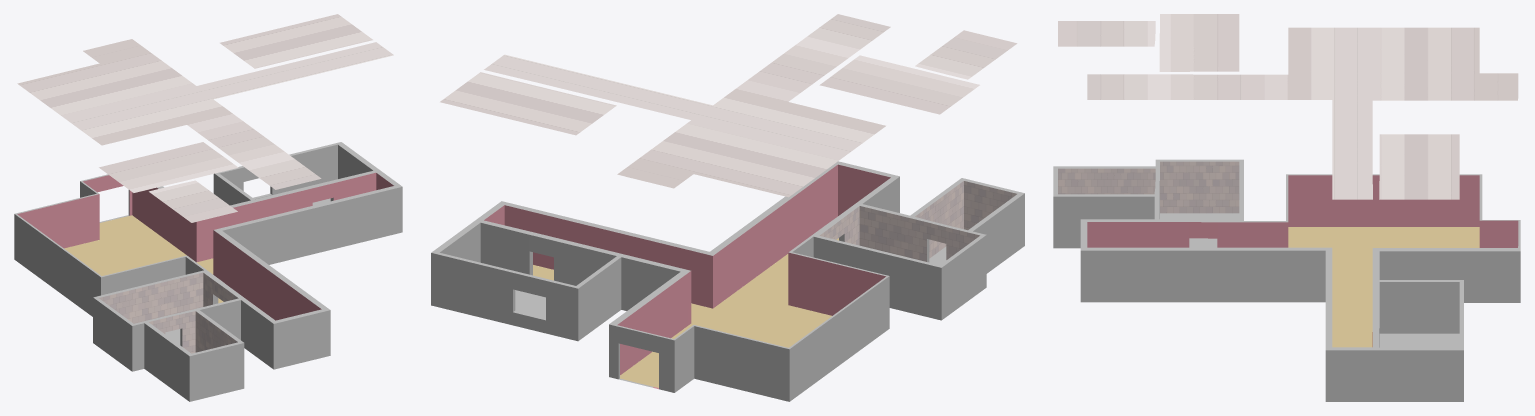
Rendered from Rooms.fbx.
3 renders of one model, left to right at view 1: azimuth 30°, elevation 25°; view 2: azimuth 150°, elevation 25°; view 3: azimuth 270°, elevation 25°, orthographic. The views are drawn at different scales.
Parts seen in each view (by area): view 1: Walls, Roof, Floor; view 2: Walls, Roof, Floor; view 3: Walls, Roof, Floor.
Boxes of the visible parts, x1,y1,x2,y2 form: Walls: [14, 142, 402, 401]; Roof: [17, 14, 393, 222]; Floor: [64, 198, 330, 344]; Walls: [431, 161, 1024, 401]; Roof: [440, 14, 1017, 197]; Floor: [515, 238, 946, 387]; Walls: [1053, 159, 1520, 401]; Roof: [1058, 14, 1518, 199]; Floor: [1160, 213, 1479, 347].
Size of the model in its own units: 5499 by 2681 by 5700.
